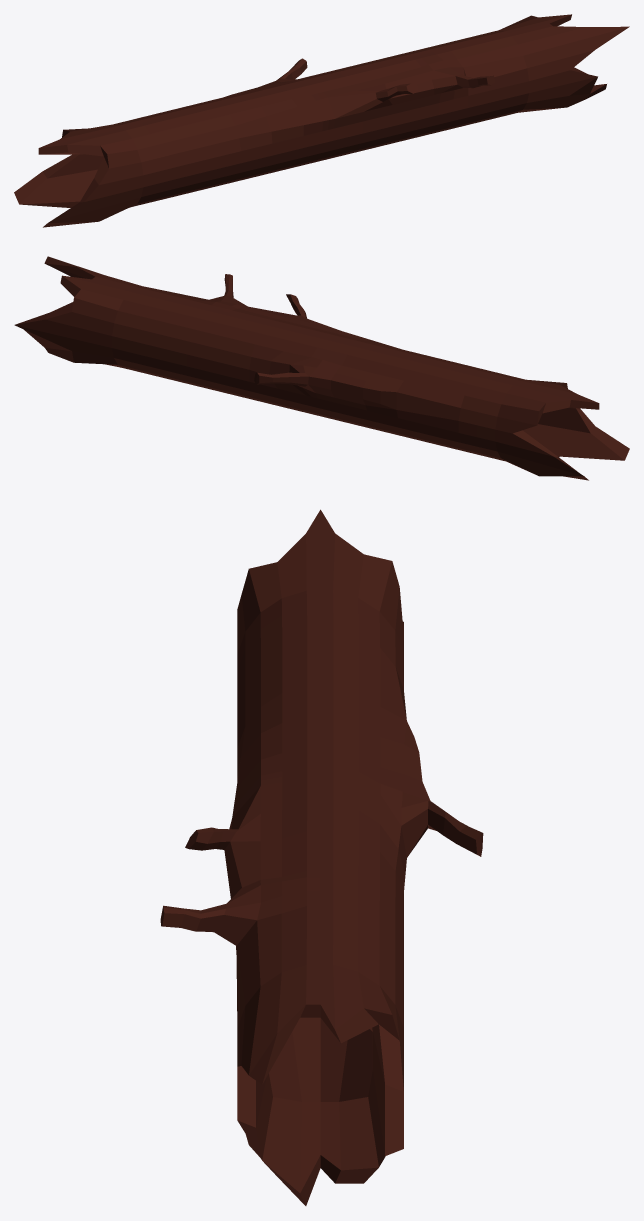
File: LogV1.fbx
3 renders of one model, top to bottom at view 1: azimuth 30°, elevation 25°; view 2: azimuth 150°, elevation 25°; view 3: azimuth 270°, elevation 25°, orthographic. The views are drawn at different scales.
Visible parts, largest first — view 1: log2; view 2: log2; view 3: log2.
Boxes of the visible parts, x1=… form: log2: x1=14, y1=14, x2=629, y2=227; log2: x1=14, y1=256, x2=629, y2=480; log2: x1=160, y1=509, x2=483, y2=1205.
Size of the model in its own units: 506 by 66.04 by 122.
